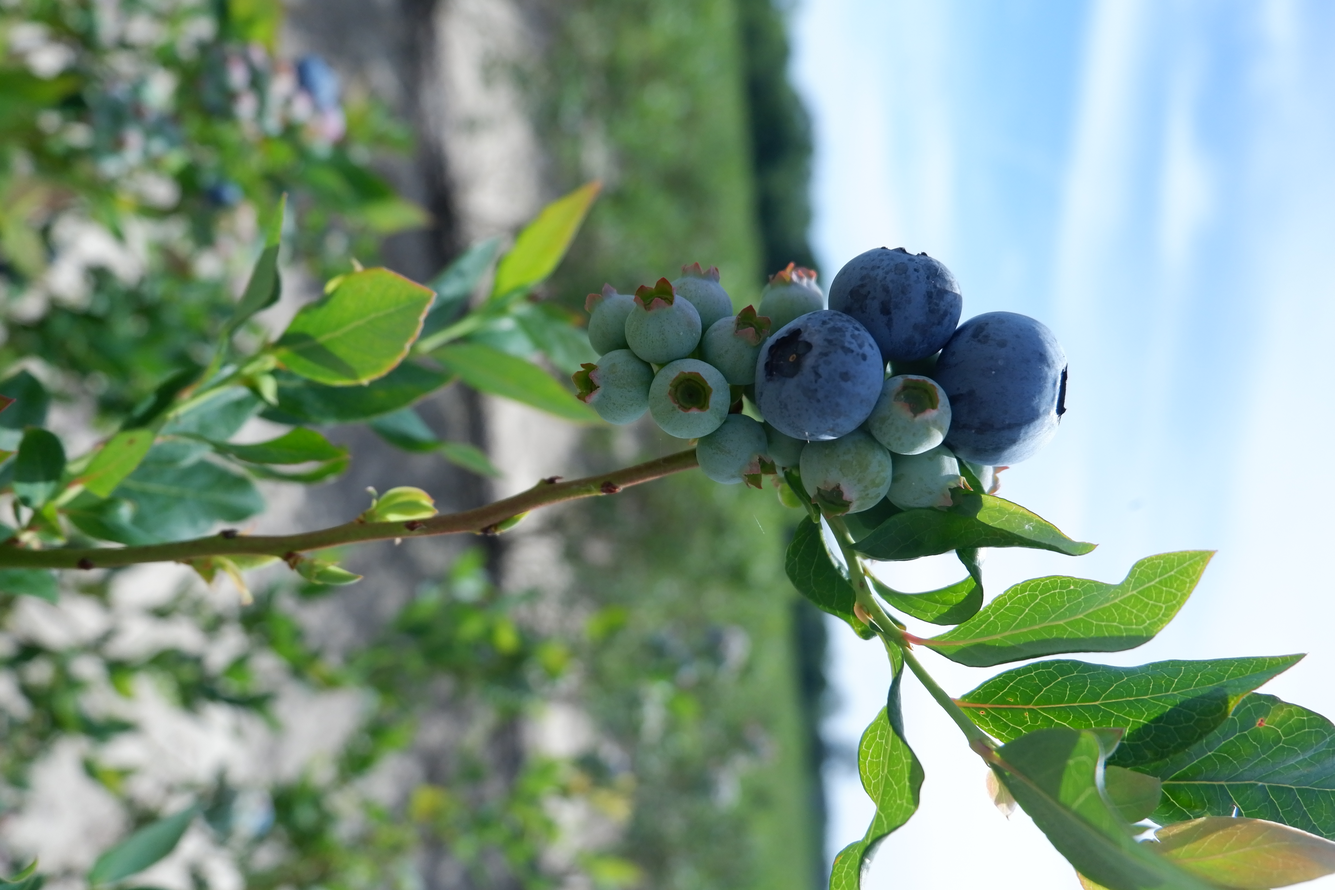Immature: (803, 430, 889, 512), (652, 360, 729, 437), (871, 377, 949, 452), (626, 283, 699, 363), (702, 309, 771, 385), (698, 416, 775, 484), (579, 353, 652, 421), (889, 446, 959, 508), (762, 264, 824, 327), (673, 264, 730, 327), (587, 285, 632, 353), (954, 454, 1011, 496), (766, 425, 808, 468)
Mature: (936, 316, 1065, 464), (757, 313, 882, 438), (830, 250, 958, 362)
